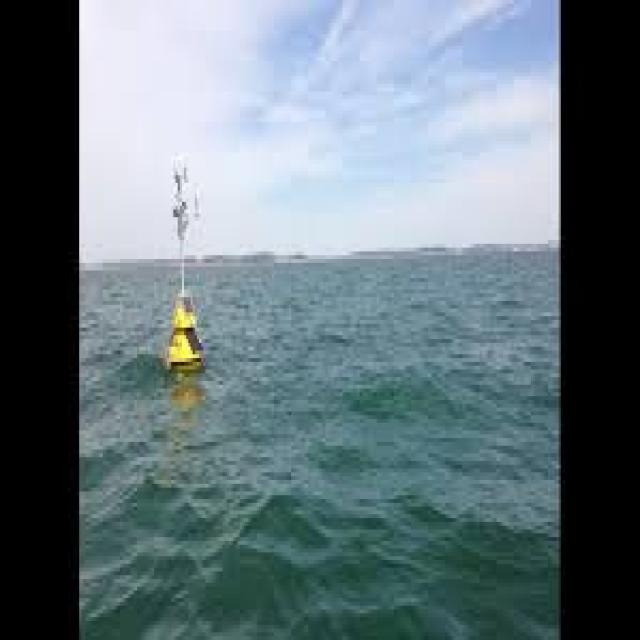2.5 sepcial mark: (153, 138, 216, 382)
